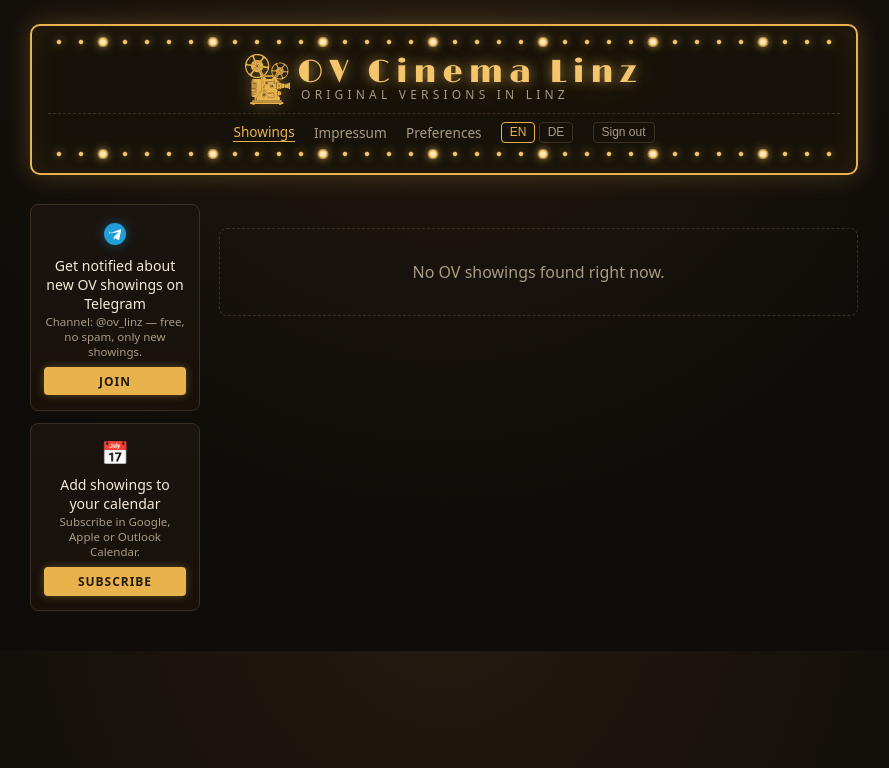
Test: App › shows the Preferences link and page when logged in
Click the link "Preferences": (444, 132) [406,123,482,142]
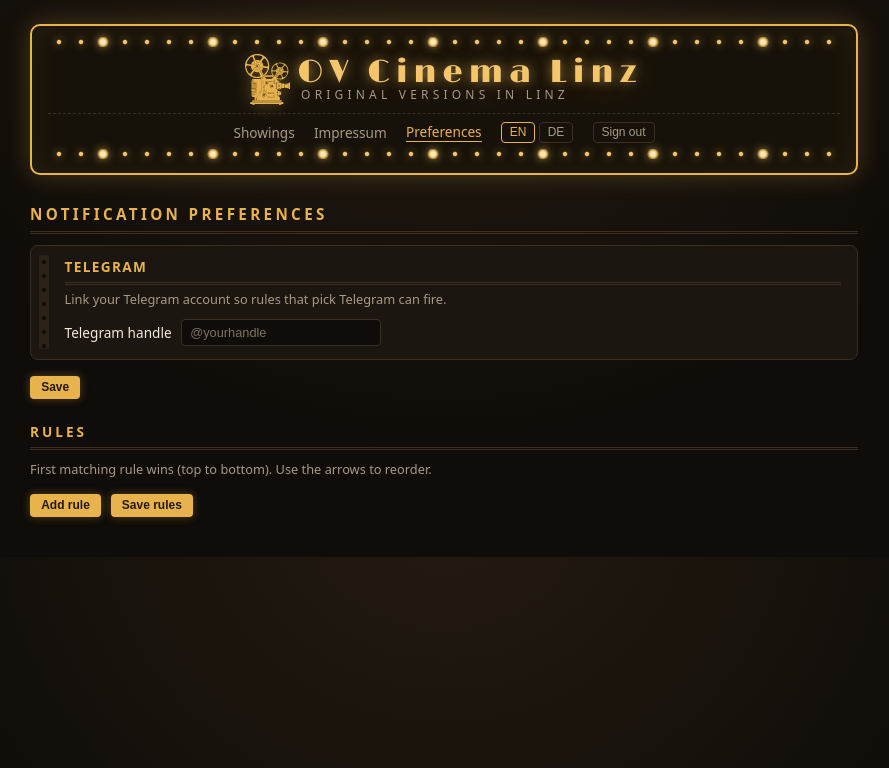
Expected: the heading "Notification preferences" is shown, [30,204,858,234]
